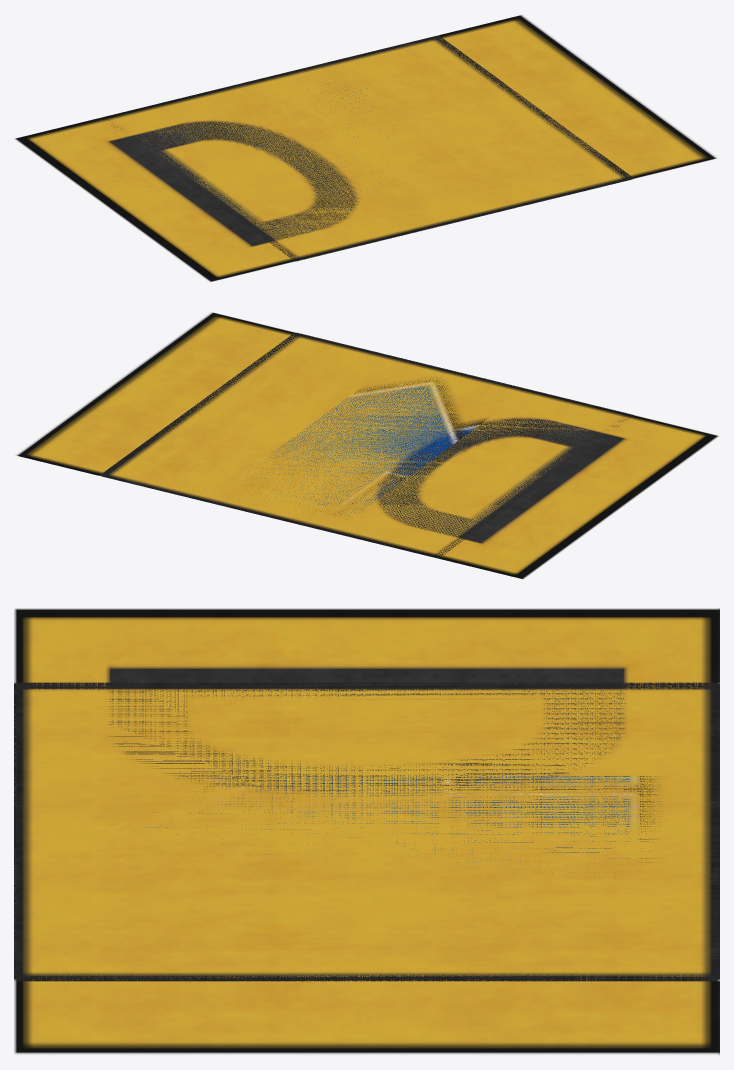
Rendered from GateNumbers.exact.glb.
3 views of the same model, one above another, from view 1: azimuth 30°, elevation 25°; view 2: azimuth 150°, elevation 25°; view 3: azimuth 270°, elevation 25° (orthographic). The views are drawn at different scales.
Parts seen in each view (by area): view 1: EmptyLarge, D; view 2: EmptyLarge, D, single0, single1; view 3: D, EmptyLarge, single0, single1.
Boxes of the visible parts, x1,y1,x2,y2 form: EmptyLarge: (14,15,717,281); D: (99,35,634,261); EmptyLarge: (15,312,718,579); D: (99,332,634,558); single0: (248,377,466,513); single1: (346,418,486,516); D: (14,682,719,981); EmptyLarge: (14,608,719,1055); single0: (129,776,659,878); single1: (195,776,654,789).
Bounding box in the file's own units: 4.5 × 1.4e-07 × 3.
Materials: 1 (1 with a texture image).
